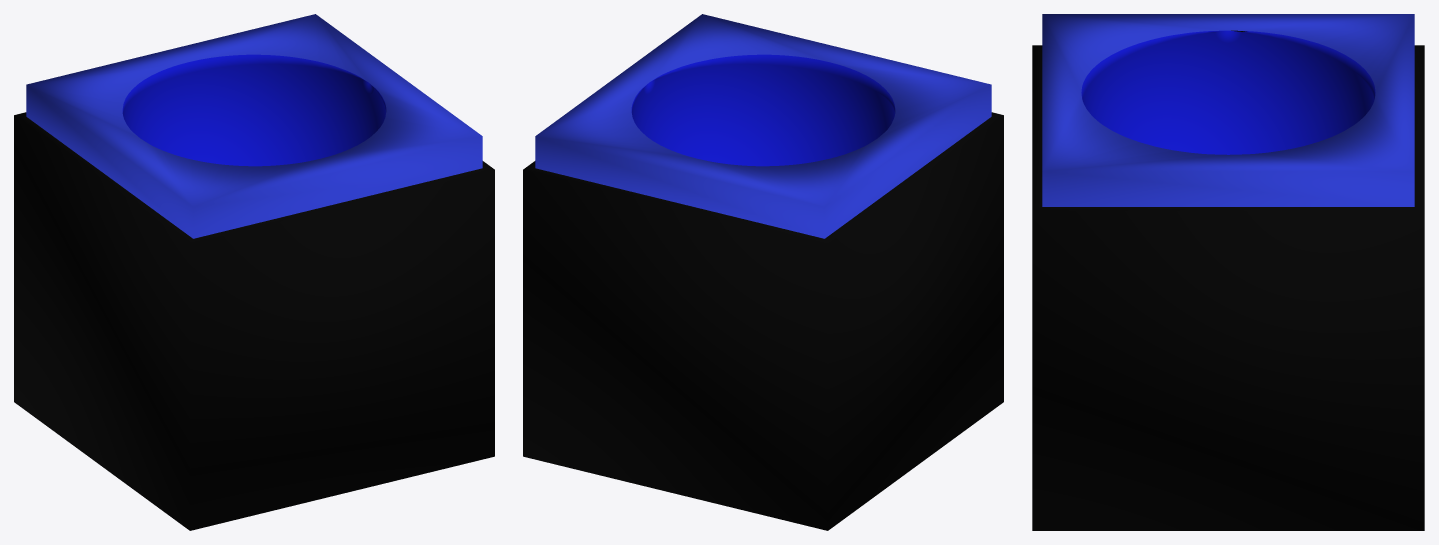
The model's file is Chalk.dae.
The picture shows the model from 3 angles, left to right: view 1: azimuth 30°, elevation 25°; view 2: azimuth 150°, elevation 25°; view 3: azimuth 270°, elevation 25°; orthographic projection. The views are drawn at different scales.
Size of the model in its own units: 0.02 by 0.02 by 0.02.
